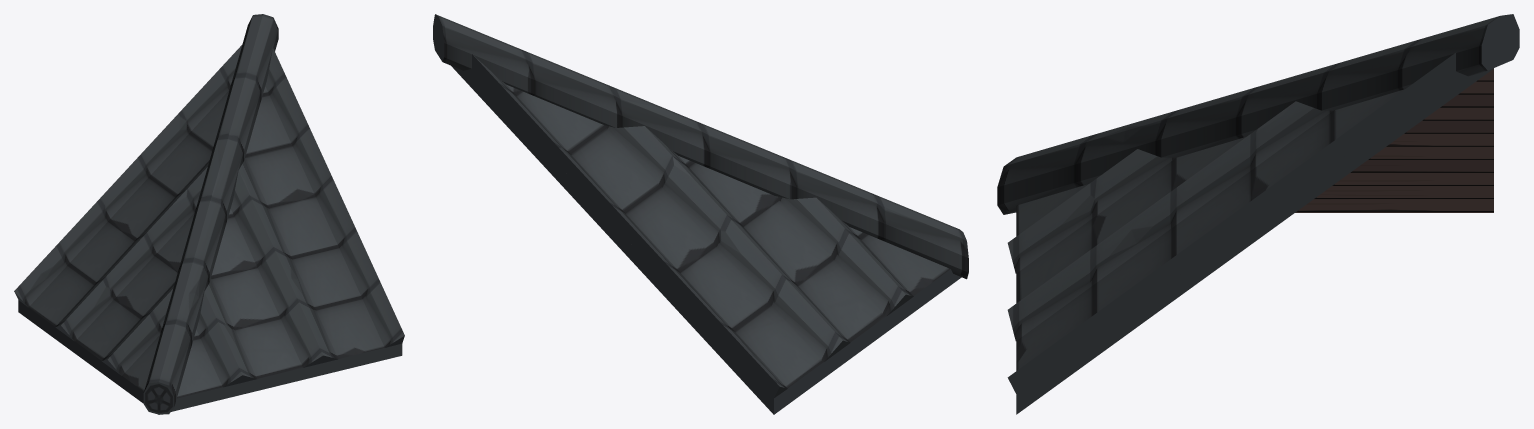
Rendered from SM_Bld_Roof_Corner_01.fbx.
The picture shows the model from 3 angles, left to right: view 1: azimuth 30°, elevation 25°; view 2: azimuth 150°, elevation 25°; view 3: azimuth 270°, elevation 25°; orthographic projection. The views are drawn at different scales.
Visible parts, largest first — view 1: SM_Bld_Roof_Corner_01; view 2: SM_Bld_Roof_Corner_01; view 3: SM_Bld_Roof_Corner_01.
Boxes of the visible parts, x1,y1,x2,y2 form: SM_Bld_Roof_Corner_01: [14, 14, 404, 414]; SM_Bld_Roof_Corner_01: [433, 14, 968, 414]; SM_Bld_Roof_Corner_01: [997, 14, 1519, 414].
Bounding box in the file's own units: 273 × 232 × 273.
